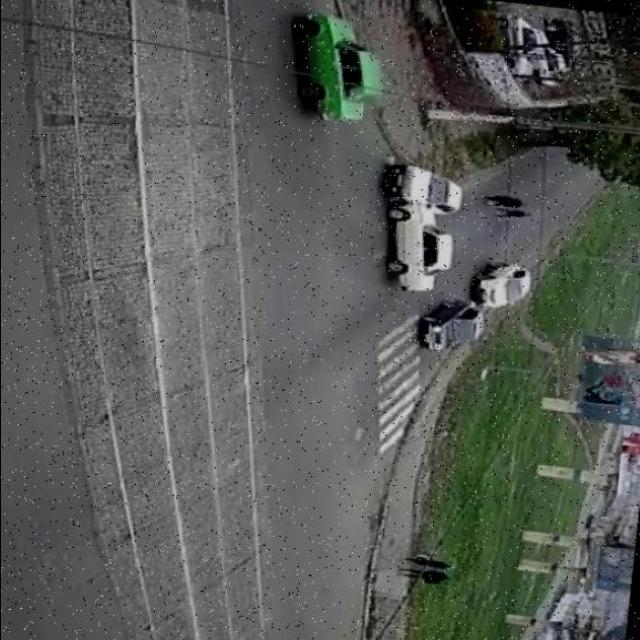accident: (352, 157, 476, 300)
